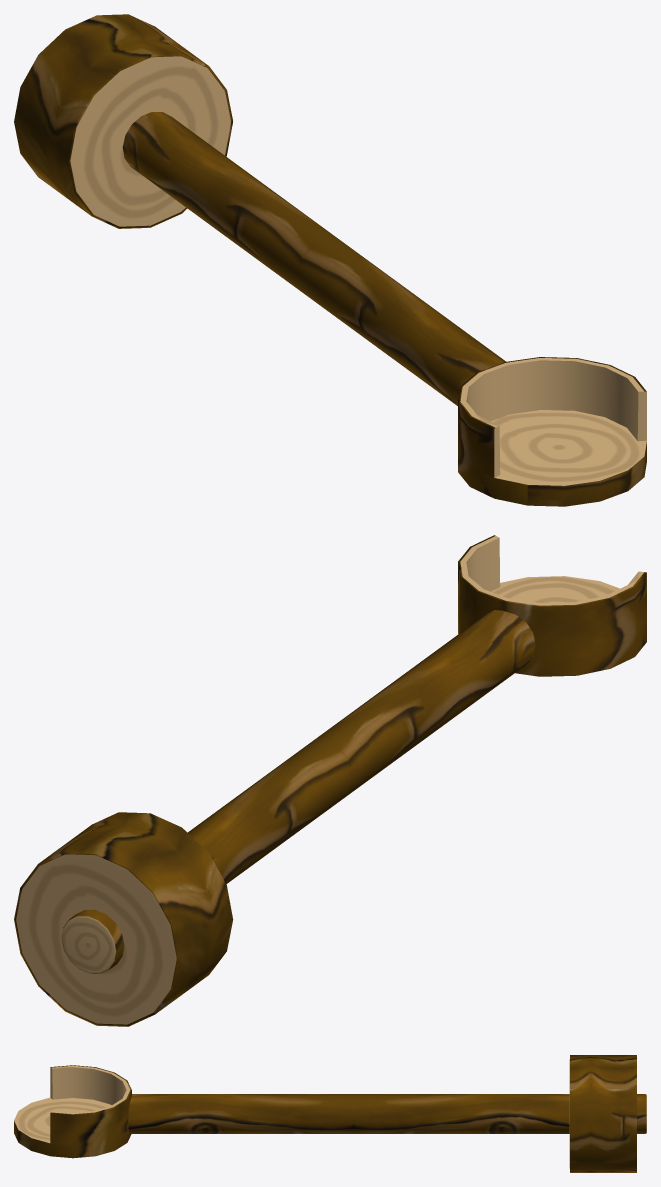
The model's file is CatapultArm.fbx.
3 views of the same model, one above another, from view 1: azimuth 30°, elevation 25°; view 2: azimuth 150°, elevation 25°; view 3: azimuth 270°, elevation 25° (orthographic). The views are drawn at different scales.
Parts seen in each view (by area): view 1: Arm_GEO; view 2: Arm_GEO; view 3: Arm_GEO.
Boxes of the visible parts, <box> form: Arm_GEO: <box>14,14,646,506</box>; Arm_GEO: <box>14,535,646,1026</box>; Arm_GEO: <box>14,1055,646,1172</box>.
Size of the model in its own units: 4.12 by 4.12 by 22.09.
